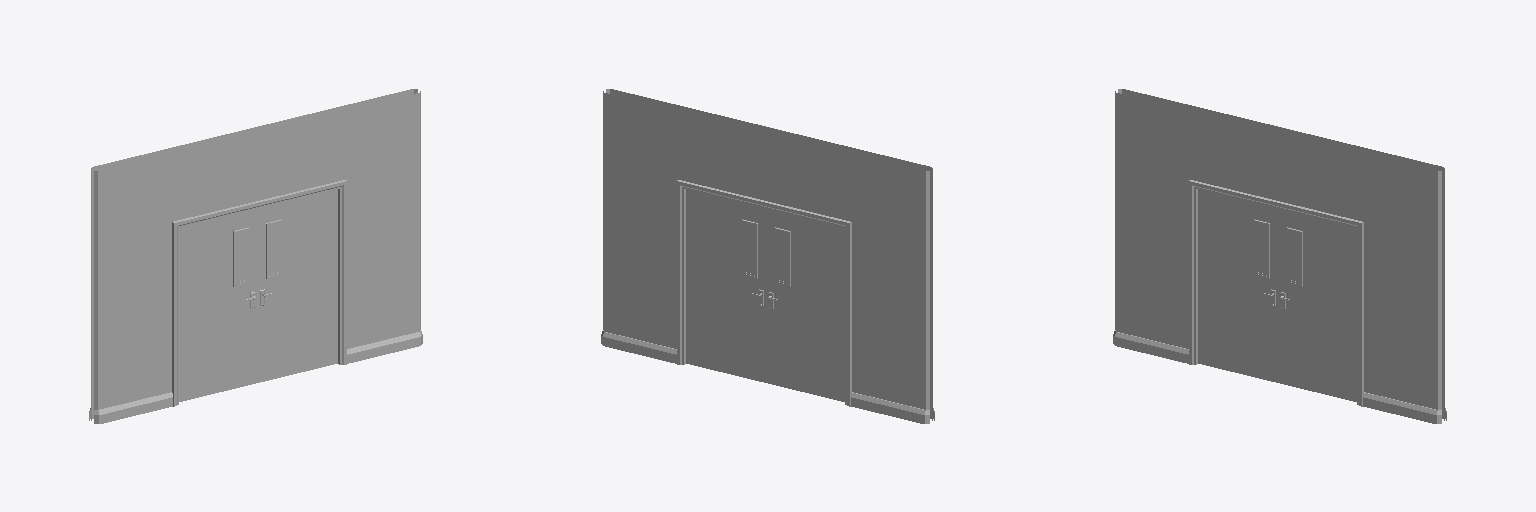
File: doorway_3_wide.obj
3 renders of one model, left to right at view 1: azimuth 30°, elevation 25°; view 2: azimuth 150°, elevation 25°; view 3: azimuth 330°, elevation 25°, orthographic.
Parts seen in each view (by area): view 1: doorway_3_wide, double_door_3_piece_2, double_door_3_piece_1; view 2: doorway_3_wide, double_door_3_piece_2, double_door_3_piece_1; view 3: doorway_3_wide, double_door_3_piece_1, double_door_3_piece_2.
Boxes of the visible parts, box(x1,y1,x2,y2) form: doorway_3_wide: box(89, 89, 422, 423); double_door_3_piece_2: box(257, 189, 337, 382); double_door_3_piece_1: box(179, 209, 256, 401); doorway_3_wide: box(601, 89, 934, 423); double_door_3_piece_2: box(686, 189, 766, 382); double_door_3_piece_1: box(767, 209, 844, 401); doorway_3_wide: box(1113, 89, 1446, 423); double_door_3_piece_1: box(1198, 189, 1278, 382); double_door_3_piece_2: box(1279, 209, 1356, 401).
Size of the model in its own units: 4.09 by 3 by 0.2.